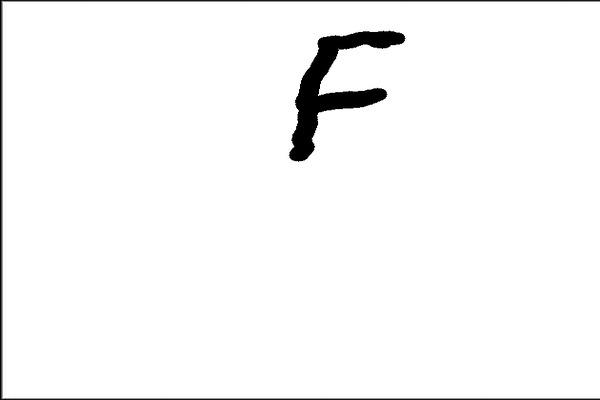F: (280, 28, 408, 166)
